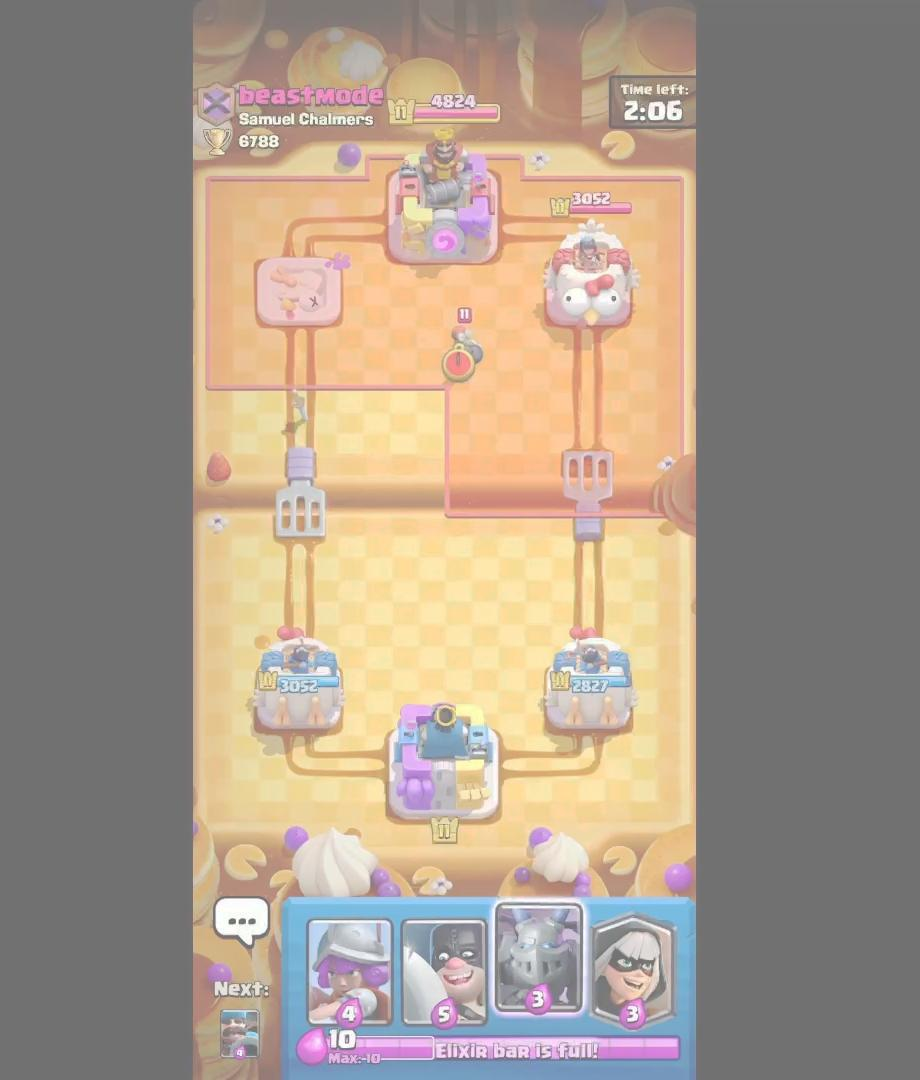Bomber: (443, 304, 488, 377)
